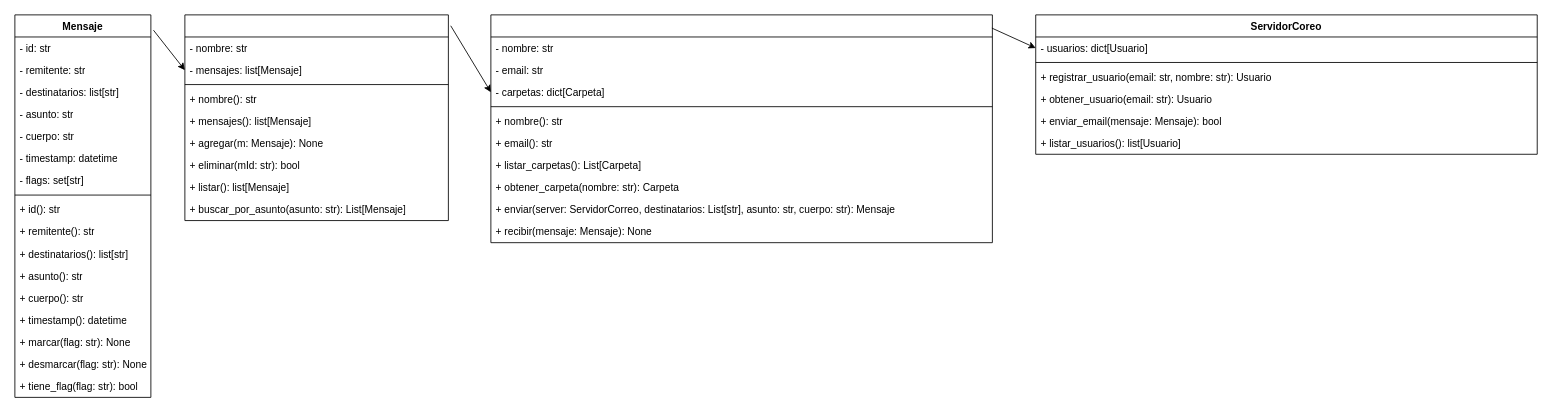
Some shapes in this 1552 by 415 pixel diagram are drawn without their labels. The box of each missing label's shape, as (x1, y1, x2, y2) in pixels:
Carpeta: (184, 14, 448, 221)
Usuario: (490, 14, 992, 243)
